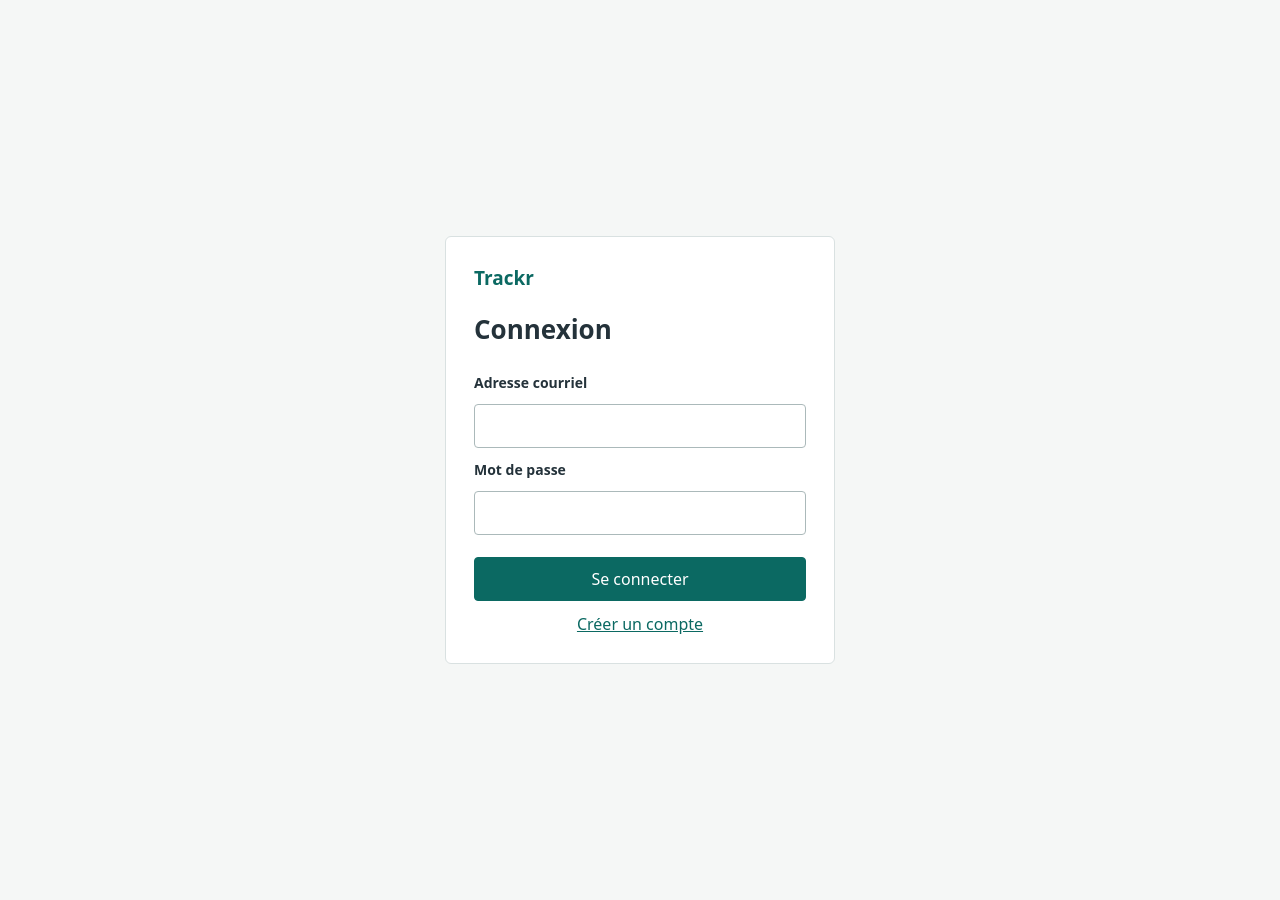
Test case: change le statut et conserve l'ancien si la requête suivante échoue
In the field labelled "Adresse courriel": (640, 426) x1=474 y1=404 x2=806 y2=448, type "alice@example.com"
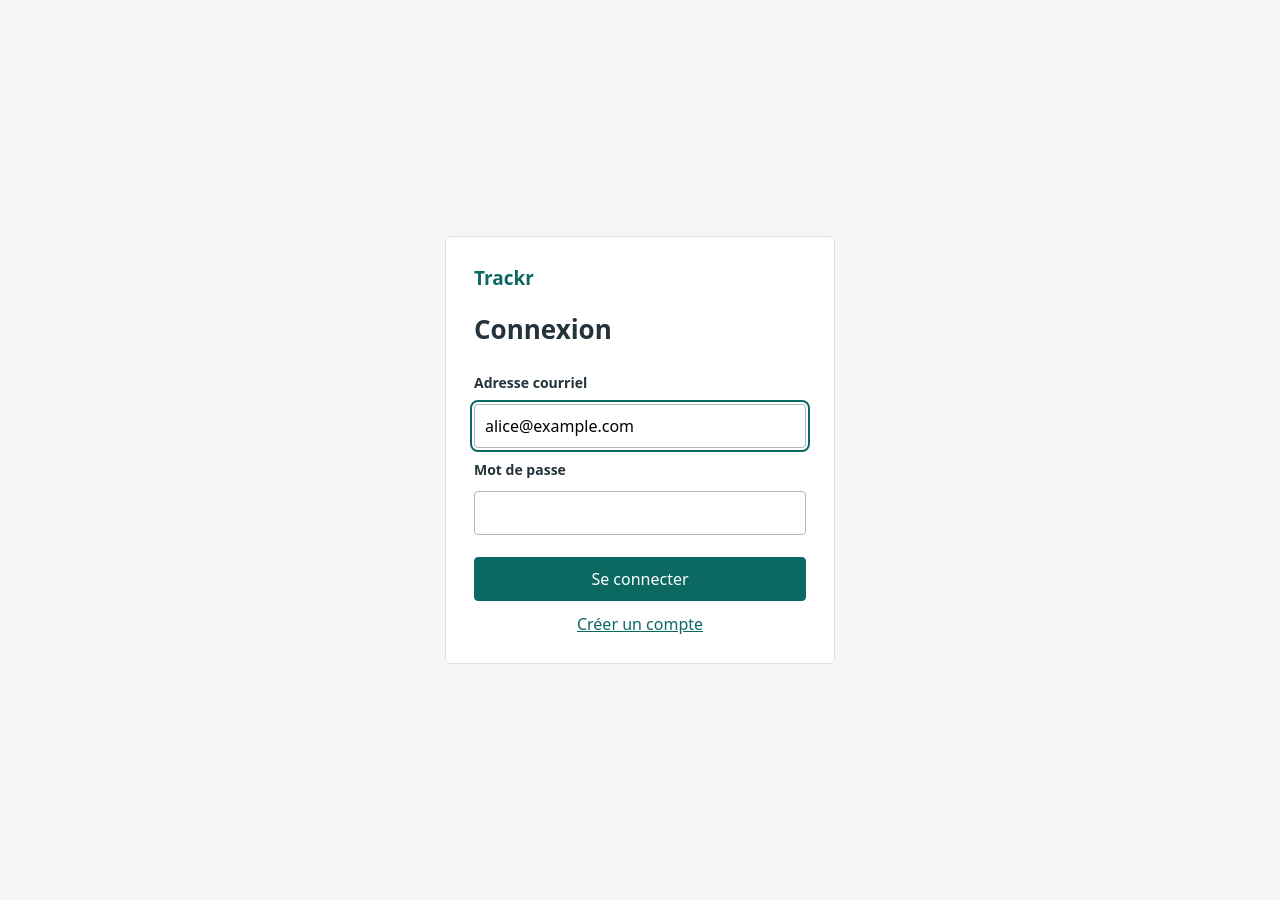
In the password field labelled "Mot de passe": (640, 513) x1=474 y1=491 x2=806 y2=535, type "Password123!"
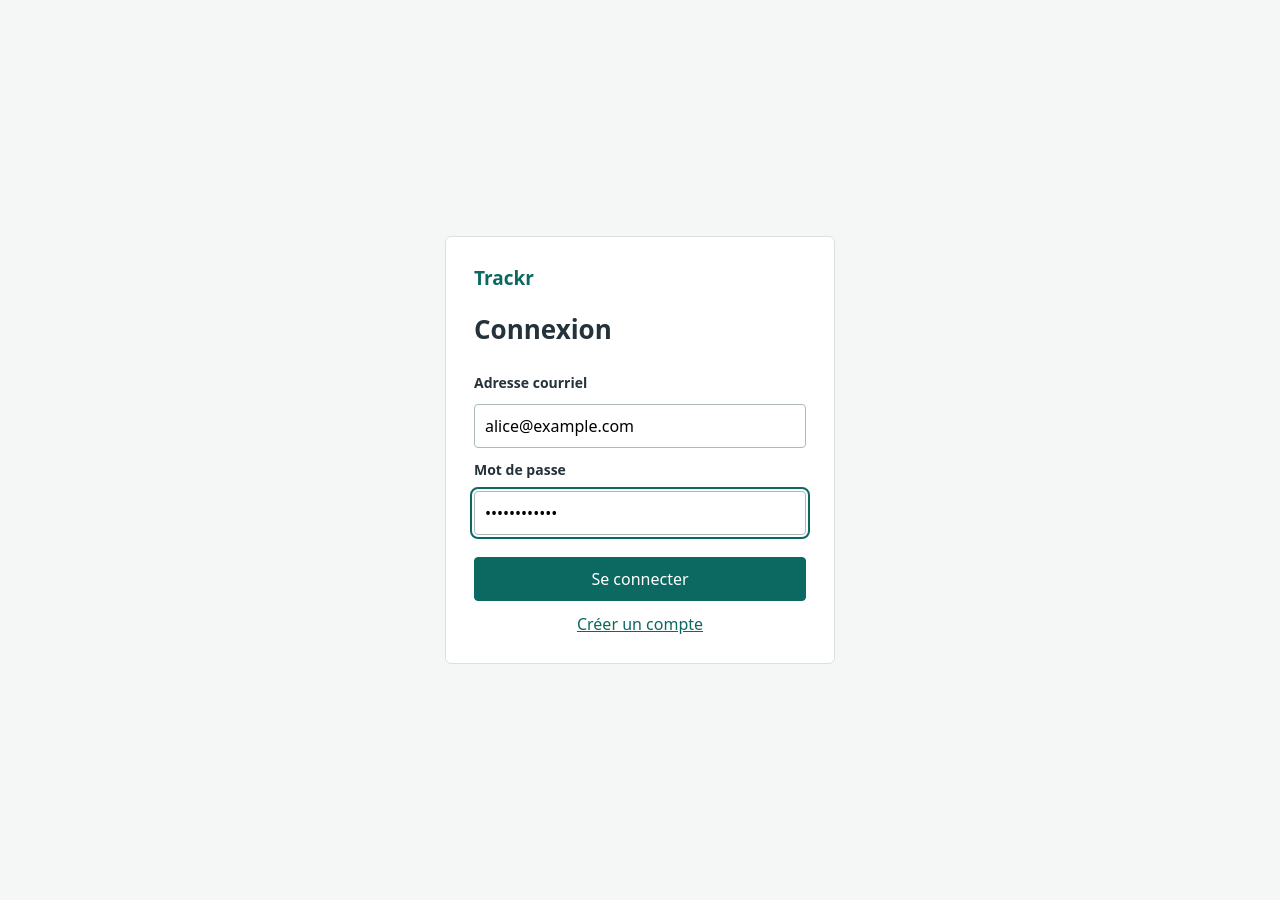
Click the button "Se connecter": click(640, 579) x1=474 y1=557 x2=806 y2=601
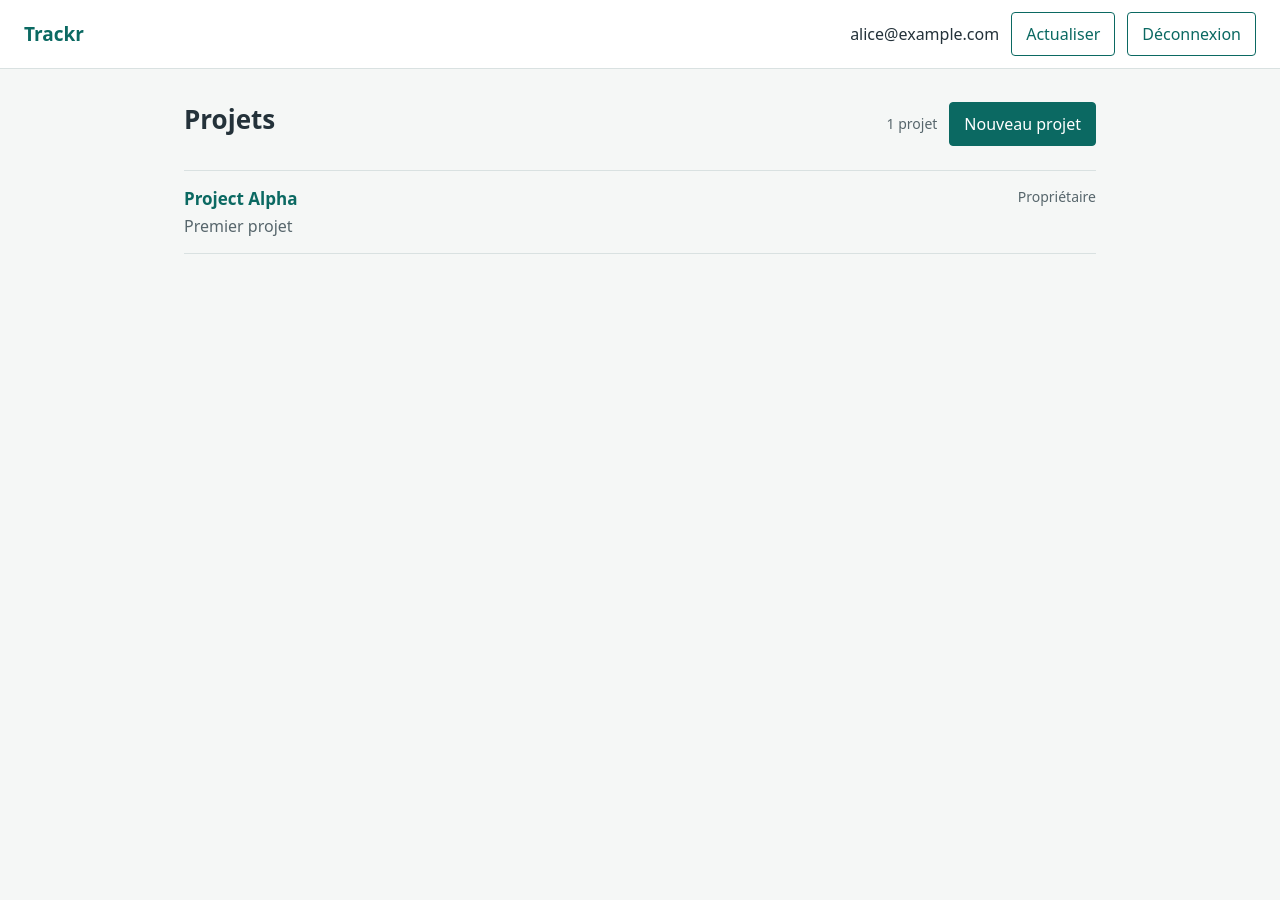
Expected: the button "Project Alpha" is shown
Click the button "Project Alpha": click(241, 198) x1=184 y1=186 x2=298 y2=210
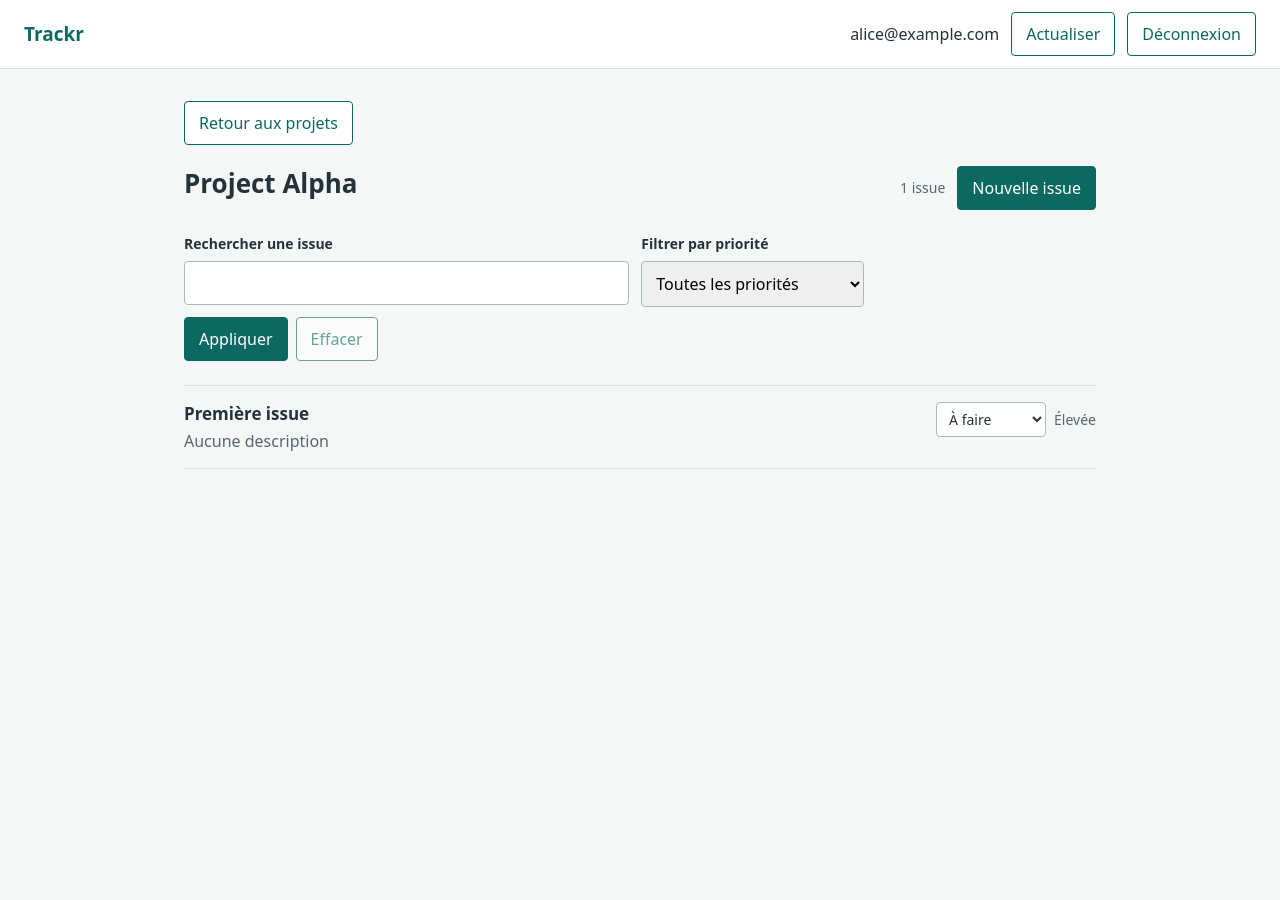
Select "En cours" in the dropdown named "Statut de Première issue": (991, 419) x1=936 y1=402 x2=1046 y2=436
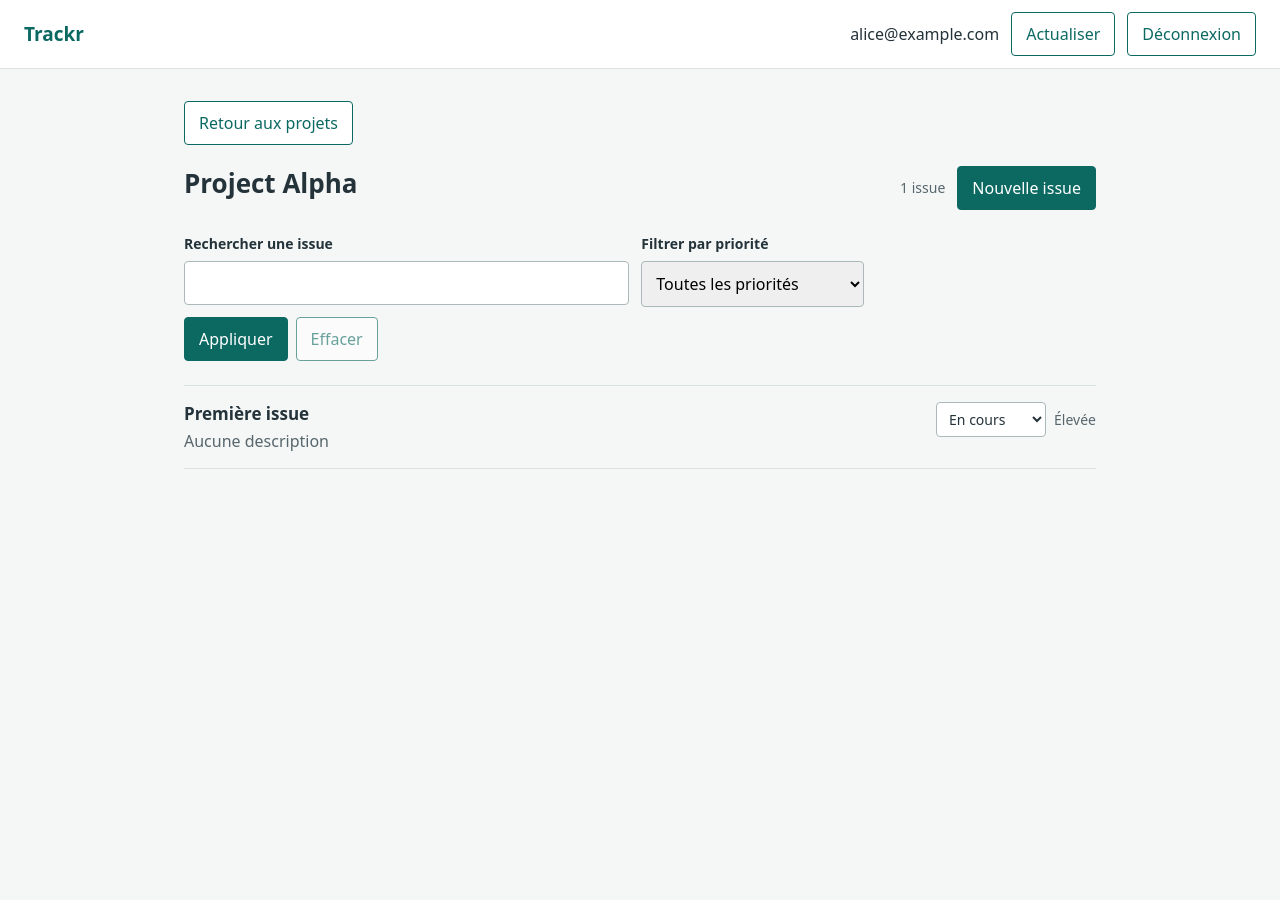
Select "Terminé" in the dropdown named "Statut de Première issue": (991, 419) x1=936 y1=402 x2=1046 y2=436
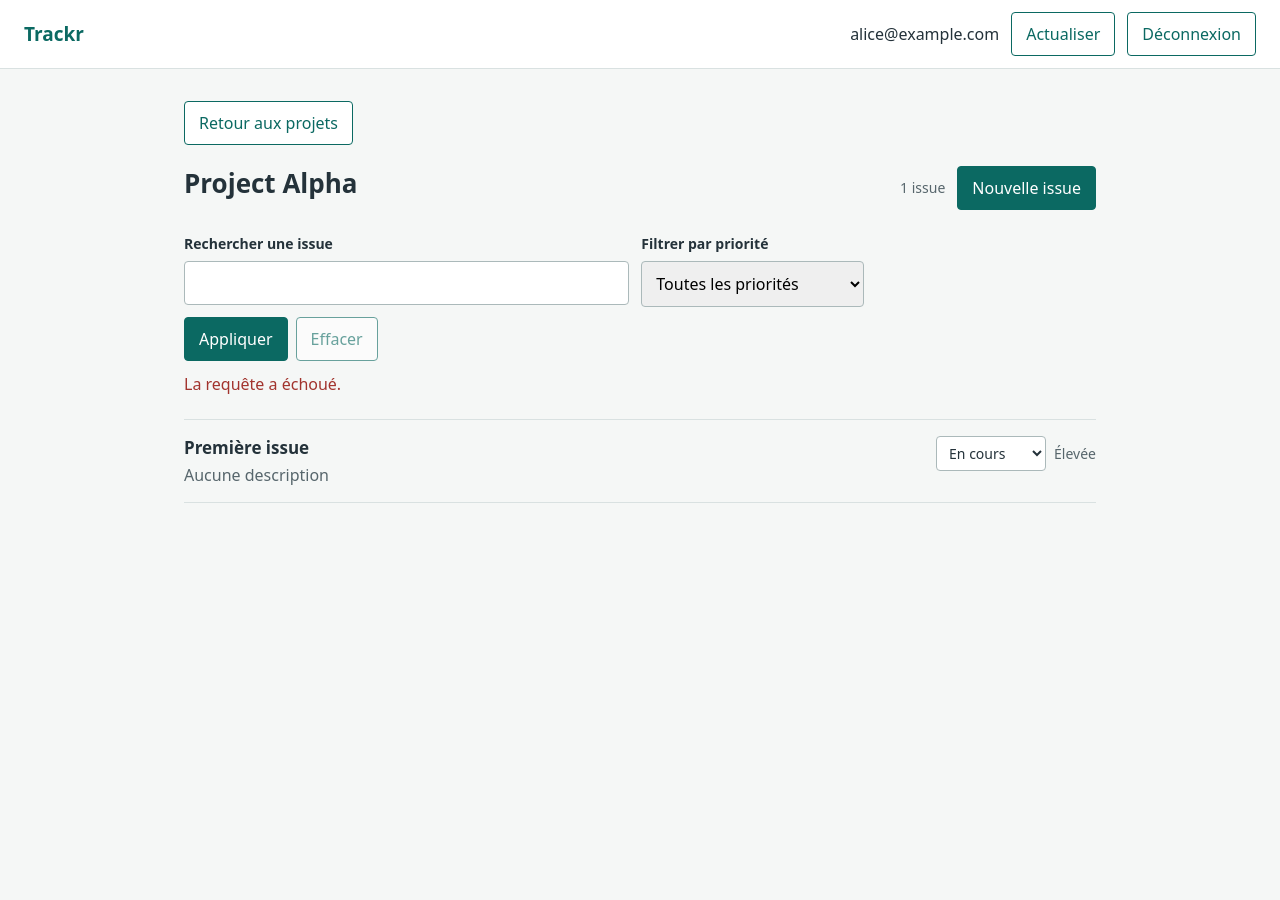
Expected: the message reads "La requête a échoué.", x1=184 y1=372 x2=341 y2=394
